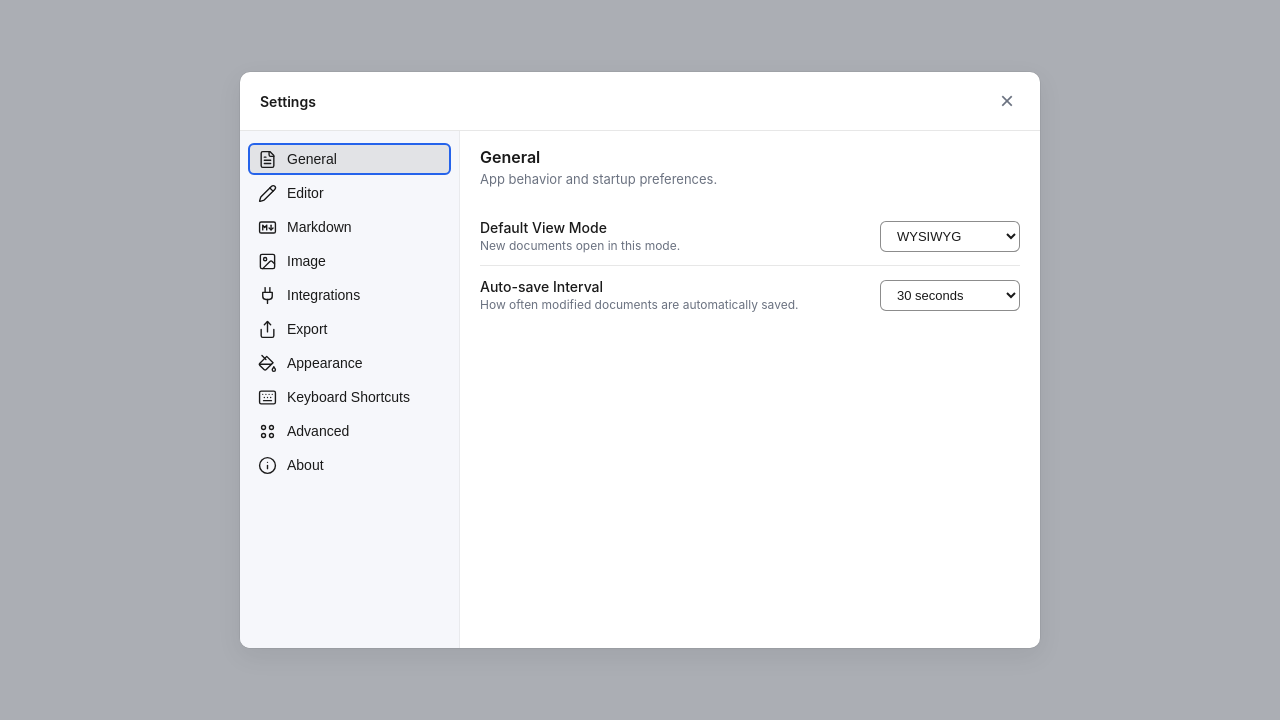
MCP-FIX-C1 load and refresh failures › M3 a failed status re-fetch after a server toggle shows the inline error and no badge
Click the button "Integrations" at (350, 295), box top-left (248, 279), bottom-right (451, 311)
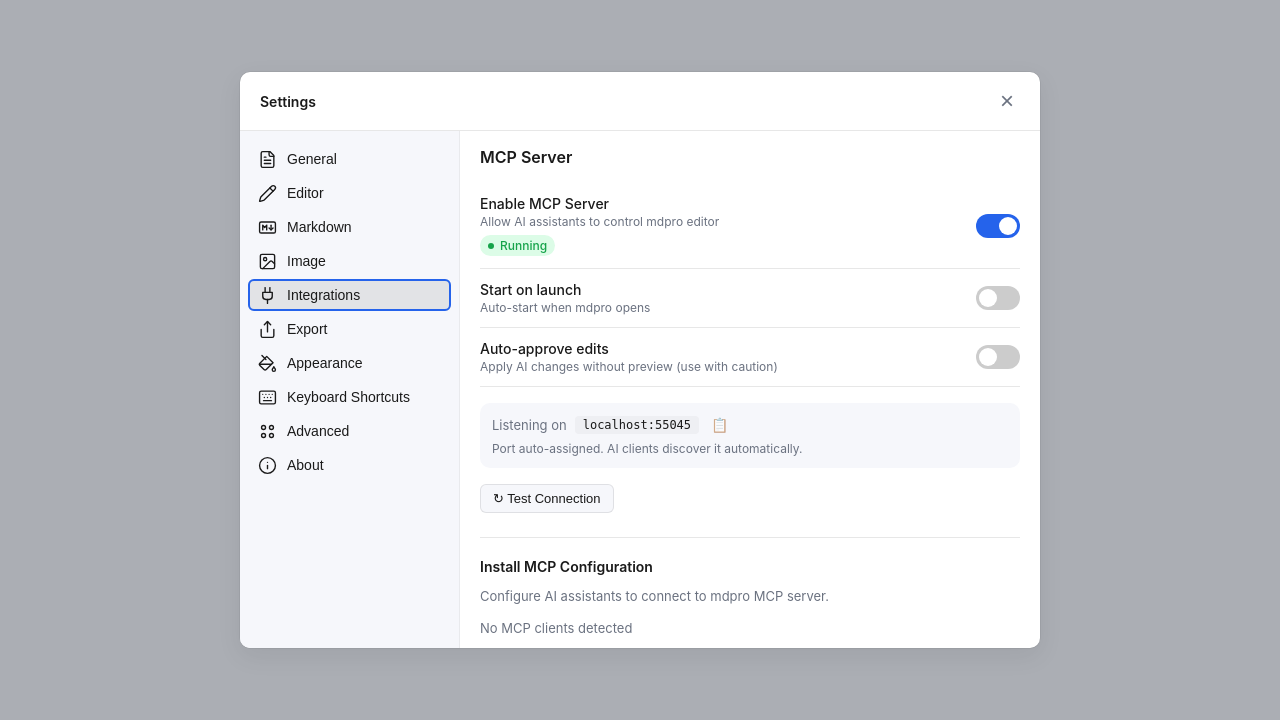
Expected: the switch labelled "Enable MCP Server" is shown
Expected: the switch labelled "Enable MCP Server" is enabled
Expected: the message reads "Running", top-left (500, 238), bottom-right (547, 253)
Click the switch labelled "Enable MCP Server" at (998, 226), box top-left (976, 214), bottom-right (1020, 238)
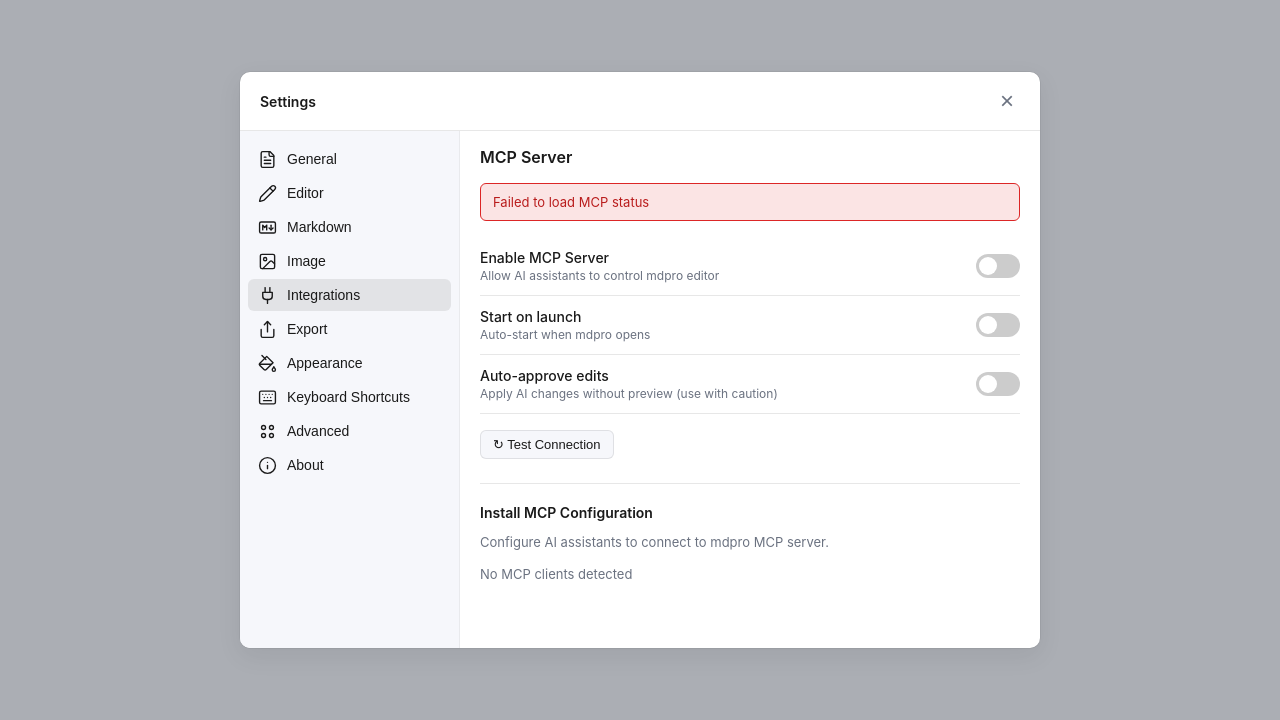
Expected: the text "Failed to load MCP status" is shown, top-left (480, 183), bottom-right (1020, 221)
Expected: the message "Running" is gone
Expected: the text "Running" is gone
